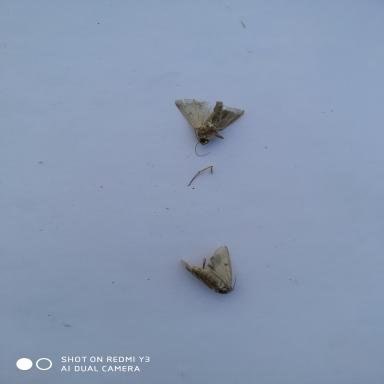abw: (168, 98, 246, 156), (180, 245, 239, 300)
